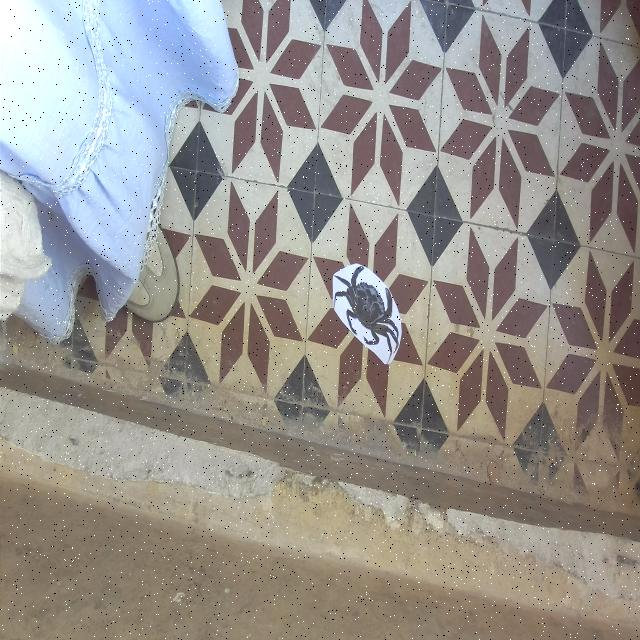European_Green_Crab: (325, 245, 410, 370)
